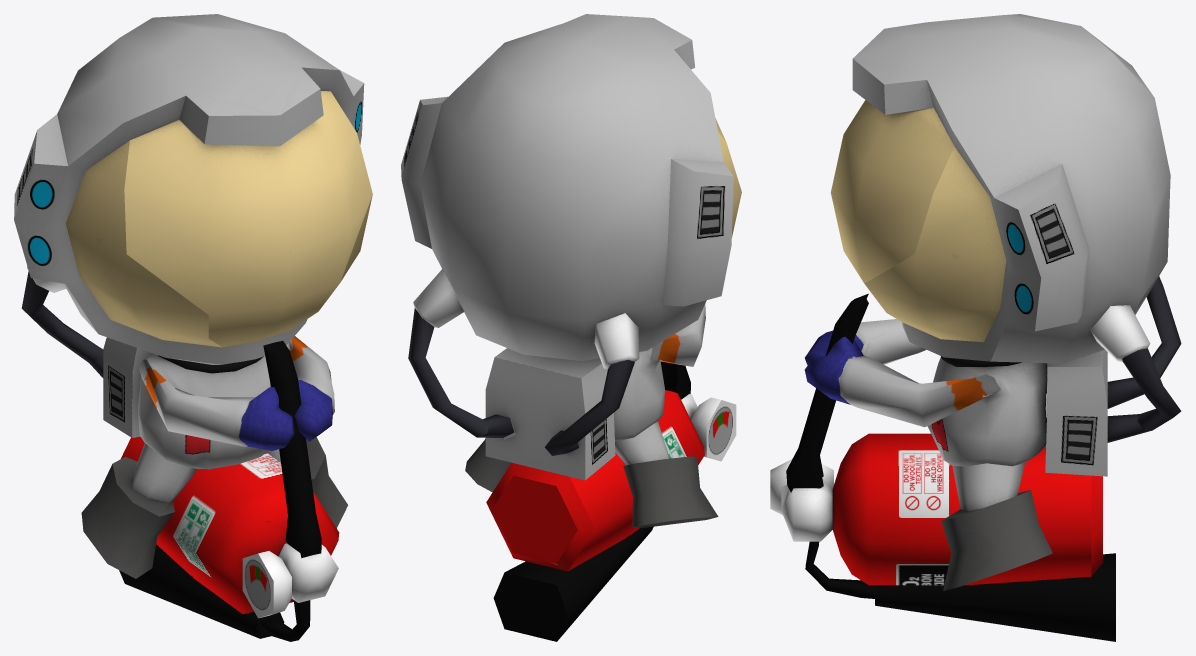
File: AstroComplete.fbx
The picture shows the model from 3 angles, left to right: view 1: azimuth 30°, elevation 25°; view 2: azimuth 150°, elevation 25°; view 3: azimuth 270°, elevation 25°; orthographic projection. The views are drawn at different scales.
Parts seen in each view (by area): view 1: Lights, exstingisher; view 2: Lights, exstingisher; view 3: Lights, exstingisher.
Boxes of the visible parts, bbox=[...] form: Lights: bbox=[14, 14, 372, 578]; exstingisher: bbox=[119, 341, 339, 641]; Lights: bbox=[401, 14, 741, 527]; exstingisher: bbox=[486, 362, 736, 641]; Lights: bbox=[804, 14, 1181, 590]; exstingisher: bbox=[770, 293, 1115, 641].
Bounding box in the file's own units: 245 × 393 × 245.
